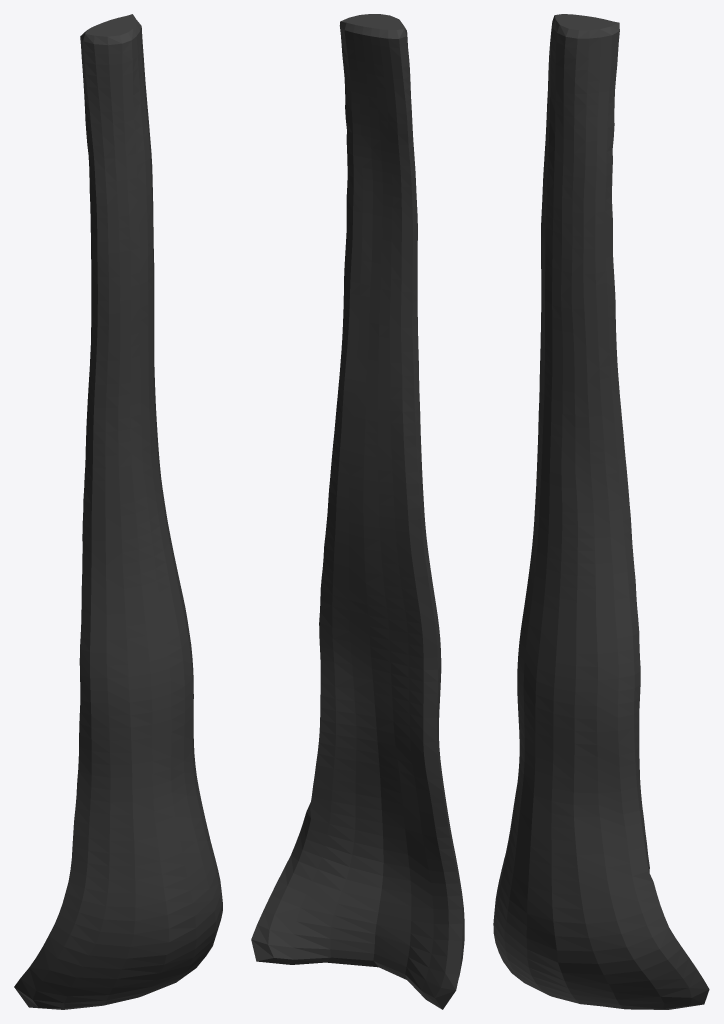
The model's file is CDE.glb.
3 views of the same model, side by side, from view 1: azimuth 30°, elevation 25°; view 2: azimuth 150°, elevation 25°; view 3: azimuth 330°, elevation 25° (orthographic).
Visible parts, largest first — view 1: CDE; view 2: CDE; view 3: CDE.
Boxes of the visible parts, x1,y1,x2,y2 form: CDE: (14,14,222,1009); CDE: (251,14,464,1009); CDE: (493,14,709,1009).
Bounding box in the file's own units: 1.45 × 6.6 × 0.6876.
Materials: 1 (1 with a texture image).
